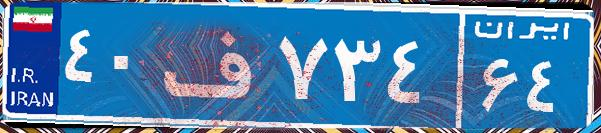0: (110, 28, 158, 105)
3: (330, 28, 385, 110)
4: (385, 28, 445, 110), (57, 26, 110, 107), (525, 38, 570, 115)
6: (475, 38, 525, 113)
7: (273, 28, 330, 110)
ف: (158, 15, 273, 115)
